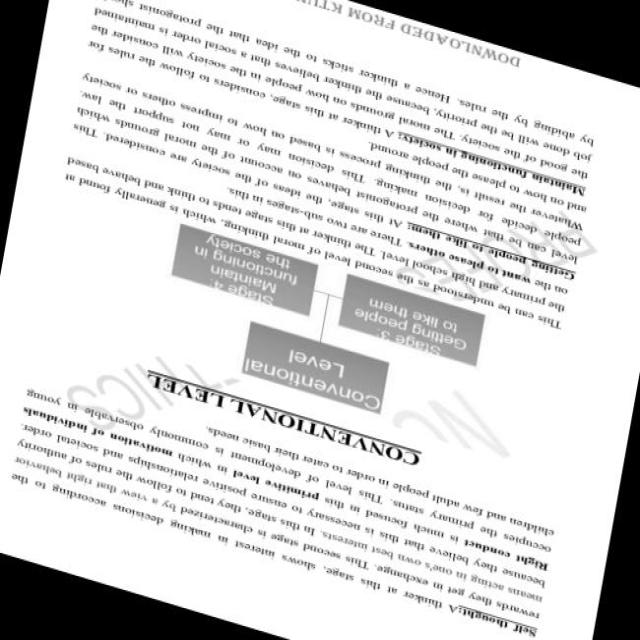Figure Detection - v3 Dataset Version2: (144, 215, 501, 452)
